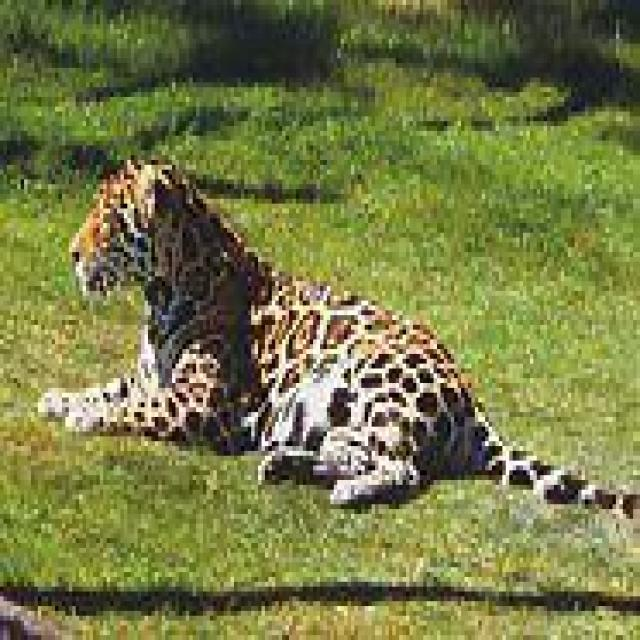Leopard: (34, 146, 623, 500)
